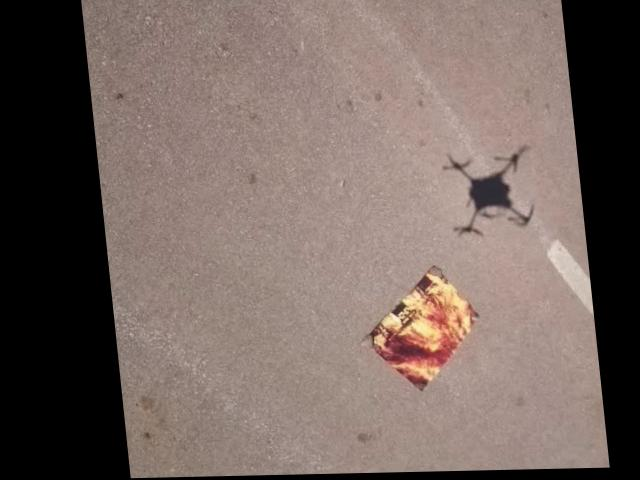fire-poster: (348, 264, 480, 395)
